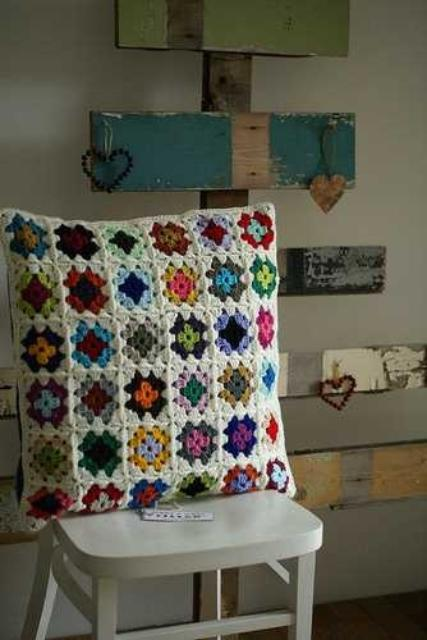pillow: (0, 201, 296, 527)
